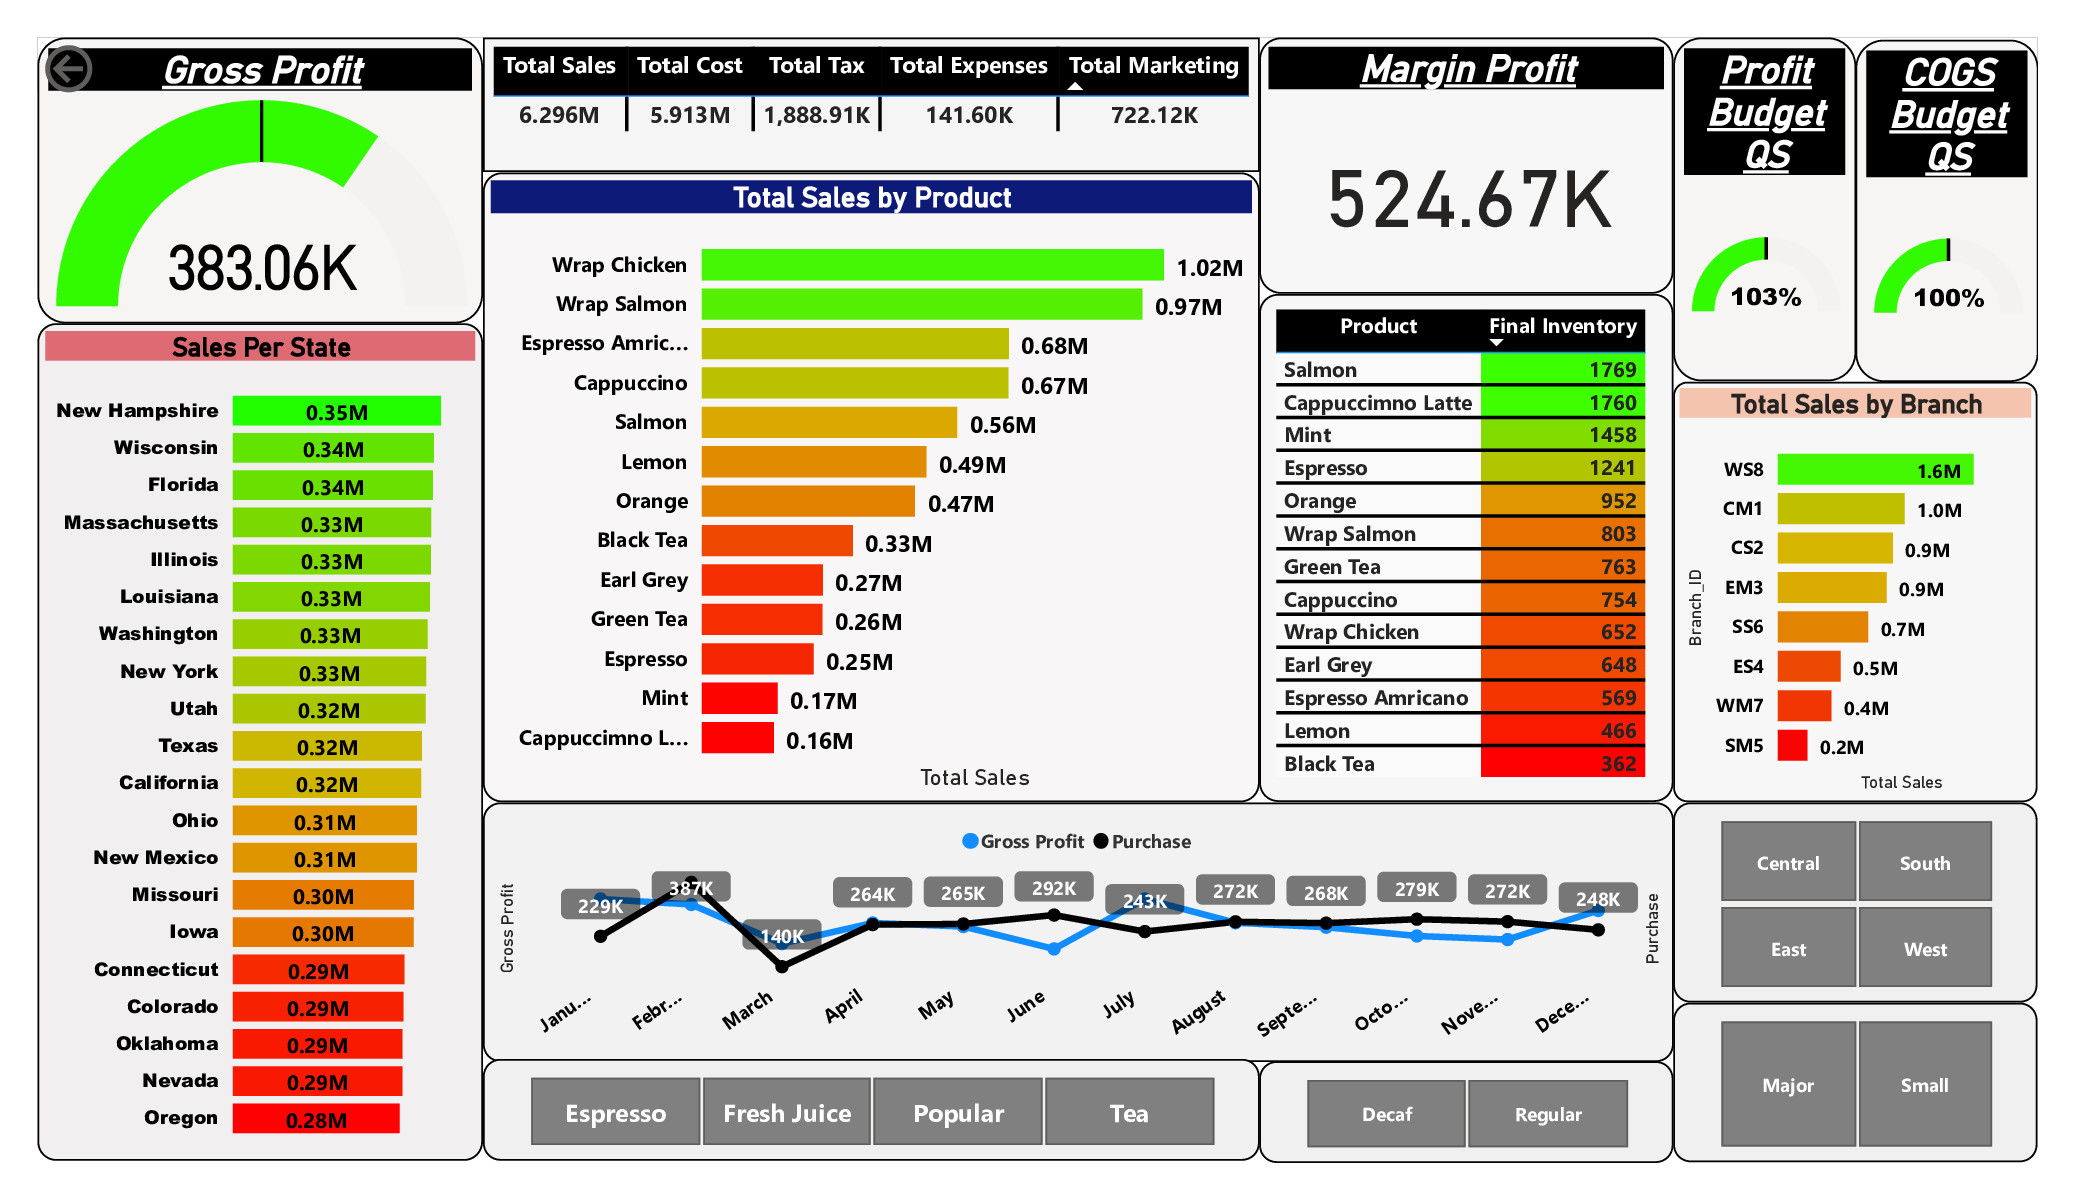

The dashboard page shown, as its layout file describes it:
{"tool":"powerbi","page":{"name":"Dashbord","canvas":[1280,720],"ordinal":0},"visuals":[{"type":"lineChart","fields":{"Y":["fn Relation.Gross Profit"],"Y2":["Sum(Purchase.Purchase)"],"Category":["Date.Date.Variation.Date Hierarchy.Year","Date.Date.Variation.Date Hierarchy.Year1","Date.Date.Variation.Date Hierarchy.Quarter","Date.Date.Variation.Date Hierarchy.Month","Date.Date.Variation.Date Hierarchy.Day"]},"box":[285.1,489.6,761.8,165.6],"z":0},{"type":"gauge","fields":{"Y":["fn Relation.Gross Profit"]},"box":[0,0,285.1,182.9],"z":1000},{"type":"gauge","fields":{"Y":["fn Relation.COGS Budget QS"]},"box":[1163.5,1.4,116.6,218.9],"z":2000},{"type":"gauge","title":"Profit Budget QS","fields":{"Y":["fn Relation.Profit Budget QS"]},"box":[1046.9,0,116.6,220.3],"z":3000},{"type":"tableEx","fields":{"Values":["fn Relation.Total Sales","fn Relation.Total Cost","fn Relation.Total Tax","fn Relation.Total Expenses","fn Relation.Total Marketing"]},"box":[285.1,0,496.8,86.4],"z":4000},{"type":"barChart","title":"Sales Per State","fields":{"Y":["Sum(Sales.Total Sales)"],"Category":["Location.State"]},"box":[0,182.9,285.1,535.7],"z":5000},{"type":"barChart","title":"Total Sales by Product","fields":{"Category":["Product.Product"],"Y":["fn Relation.Total Sales"]},"box":[285.1,86.4,496.8,403.2],"z":6000},{"type":"barChart","title":"Total Sales by Branch","fields":{"Category":["Branches.Branch_ID"],"Y":["Sum(Sales.Total Sales)"]},"box":[1046.9,220.3,233.3,269.3],"z":7000},{"type":"tableEx","fields":{"Values":["Product.Product","fn Relation.Final Inventory"]},"box":[781.9,164.2,265,325.4],"z":8000},{"type":"slicer","title":"regon","fields":{"Values":["Location.regon"]},"box":[1046.9,489.6,233.3,128.2],"z":9000},{"type":"slicer","title":"Market","fields":{"Values":["Branches.Type"]},"box":[1046.9,617.8,233.3,102.2],"z":10000},{"type":"slicer","title":"Product type","fields":{"Values":["Product.Type"]},"box":[781.9,655.2,265,64.8],"z":11000},{"type":"slicer","title":"Product type","fields":{"Values":["Product.Product_Category"]},"box":[285.1,653.8,496.8,64.8],"z":12000},{"type":"actionButton","box":[0,0,100,40],"z":13000},{"type":"card","title":"Margin Profit","fields":{"Values":["fn Relation.Margin Profit"]},"box":[781.9,0,265,164.2],"z":14000}]}

Visuals, with their boxes in screenshot pixels (x1, y1, x2, y2):
lineChart - fn Relation.Gross Profit x Sum(Purchase.Purchase): (483,802,1673,1061)
gauge - fn Relation.Gross Profit: (38,38,483,323)
gauge - fn Relation.COGS Budget QS: (1855,40,2038,382)
"Profit Budget QS" gauge: (1673,38,1855,382)
tableEx - fn Relation.Total Sales x fn Relation.Total Cost: (483,38,1259,172)
"Sales Per State" barChart: (38,323,483,1160)
"Total Sales by Product" barChart: (483,172,1259,802)
"Total Sales by Branch" barChart: (1673,382,2038,802)
tableEx - Product.Product x fn Relation.Final Inventory: (1259,294,1673,802)
"regon" slicer: (1673,802,2038,1003)
"Market" slicer: (1673,1003,2038,1162)
"Product type" slicer: (1259,1061,1673,1162)
"Product type" slicer: (483,1059,1259,1160)
actionButton: (38,38,194,100)
"Margin Profit" card: (1259,38,1673,294)
